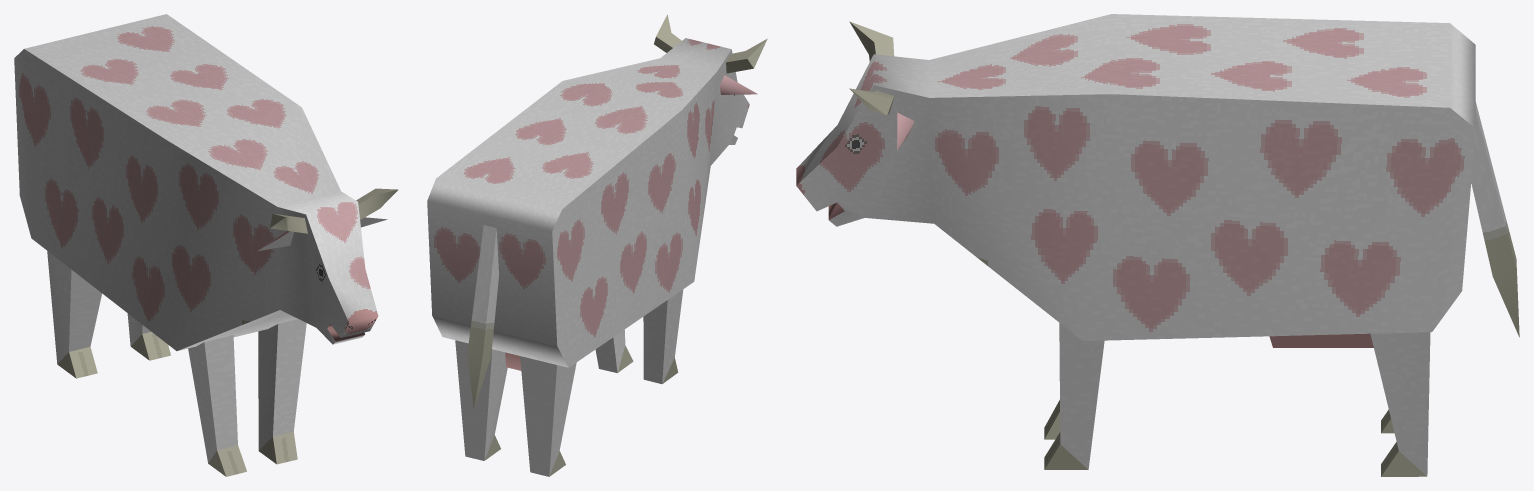
File: 01e8_Cute_Cow.glb
The picture shows the model from 3 angles, left to right: view 1: azimuth 30°, elevation 25°; view 2: azimuth 150°, elevation 25°; view 3: azimuth 270°, elevation 25°; orthographic projection. The views are drawn at different scales.
Visible parts, largest first — view 1: part_0; view 2: part_0; view 3: part_0.
Part boxes in pixels (x1,y1,x2,y2): part_0: (14, 14, 398, 476); part_0: (427, 14, 767, 476); part_0: (796, 14, 1519, 476).
Size of the model in its own units: 0.6779 by 1.47 by 2.45.
1 material, 1 textured.
